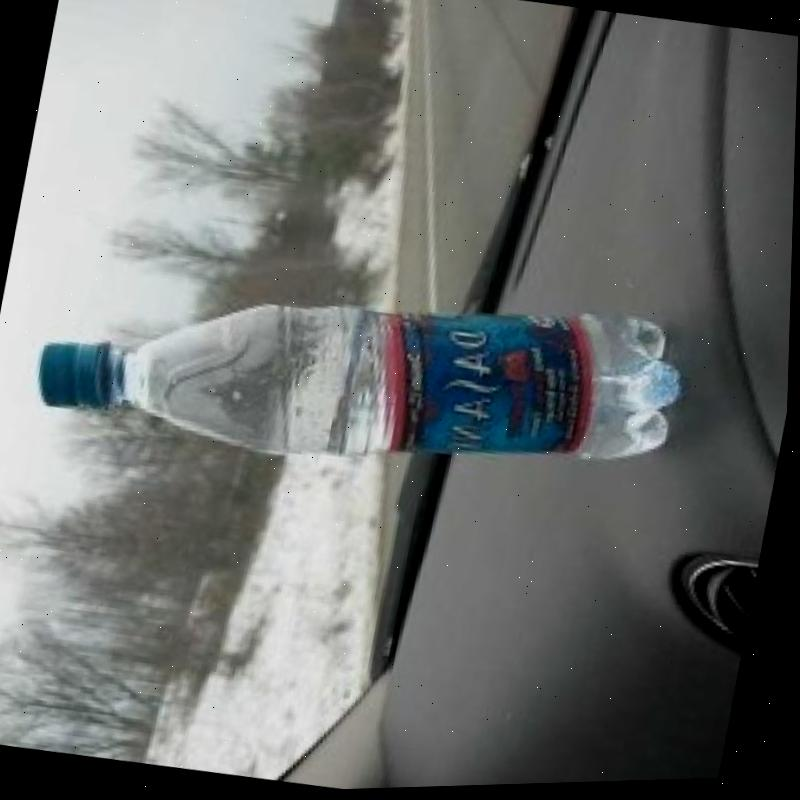botella: (28, 227, 699, 522)
